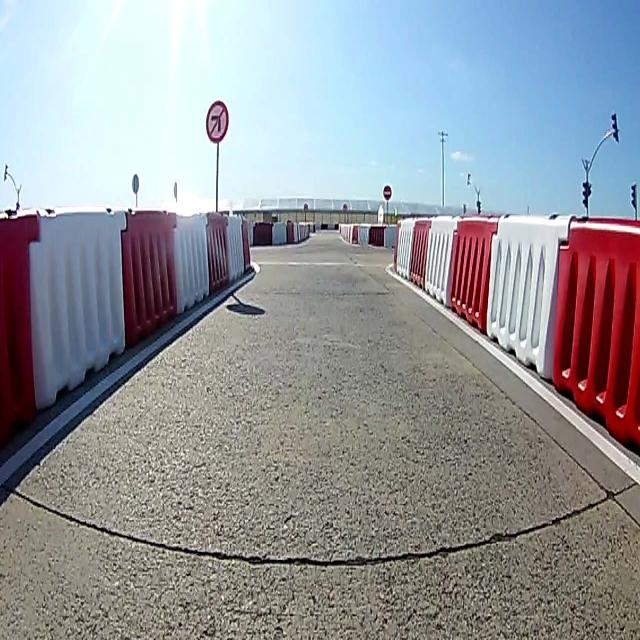girisyok: (383, 183, 391, 200)
soladonulmez: (206, 101, 228, 143)
